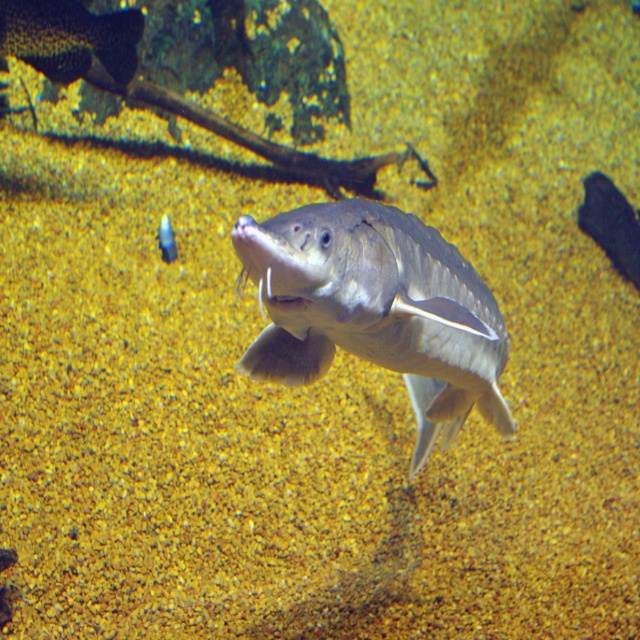Fish: (230, 215, 516, 496)
